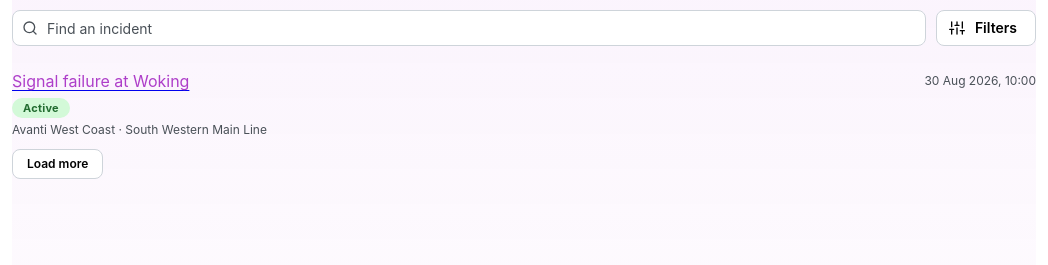
Scenario: IncidentSearchForm › says the end has been reached once the last page is in, rather than just dropping the button
Expected: the text "Signal failure at Woking" is shown, [12, 69, 189, 94]
Expected: the text "You've reached the end" is not shown
Click the button "Load more": (58, 164) [12, 149, 103, 179]
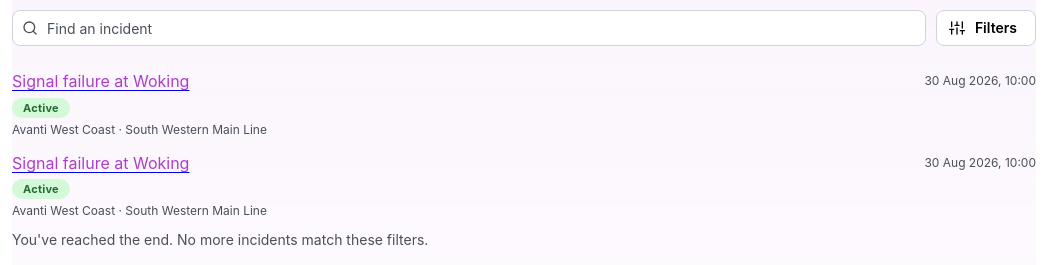
Now the text "You've reached the end. No more incidents match these filters." is shown, box [12, 231, 428, 248]
